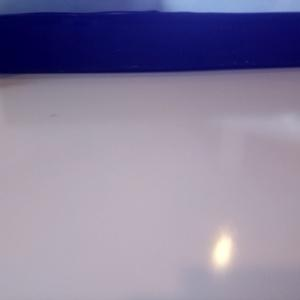zone: (1, 11, 299, 74)
